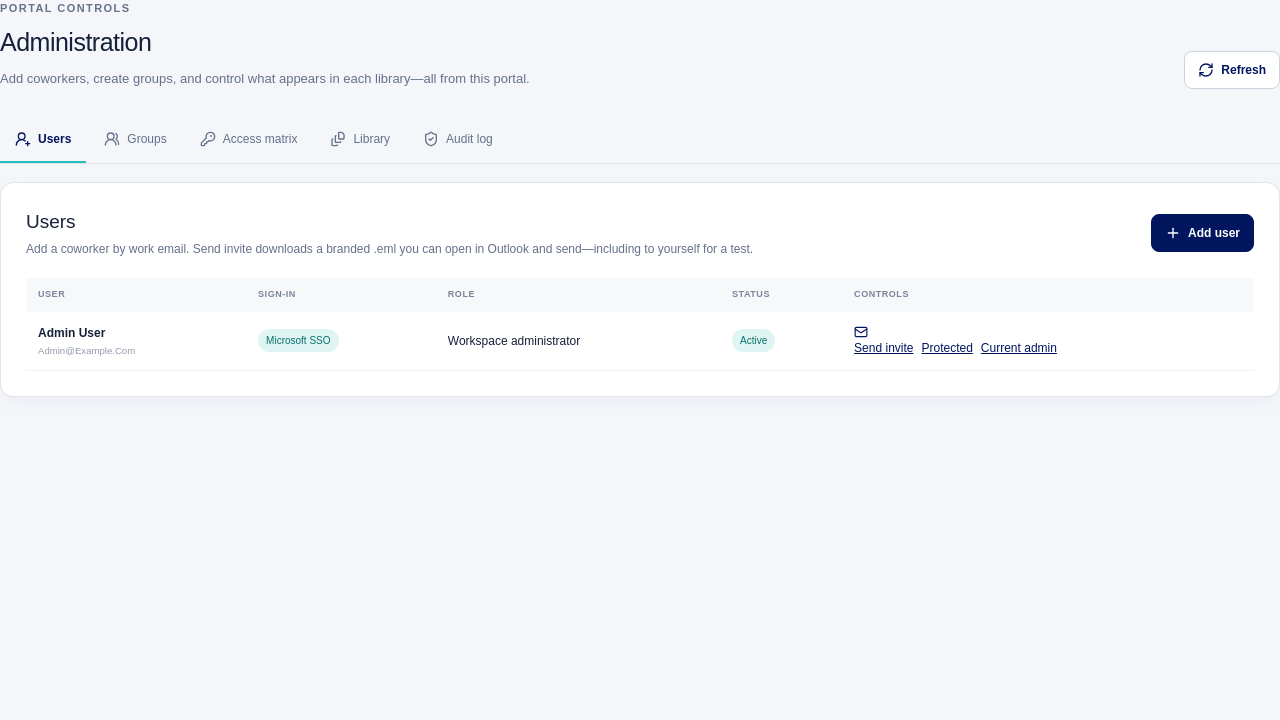
Test case: AdminPage access changes › opens the publish form on the library tab
The width and height of the screenshot is (1280, 720).
What coordinates should you click on to do the following:
click the tab "Library"
I would click on:
 (360, 140)
Its box is [315,116,405,162].
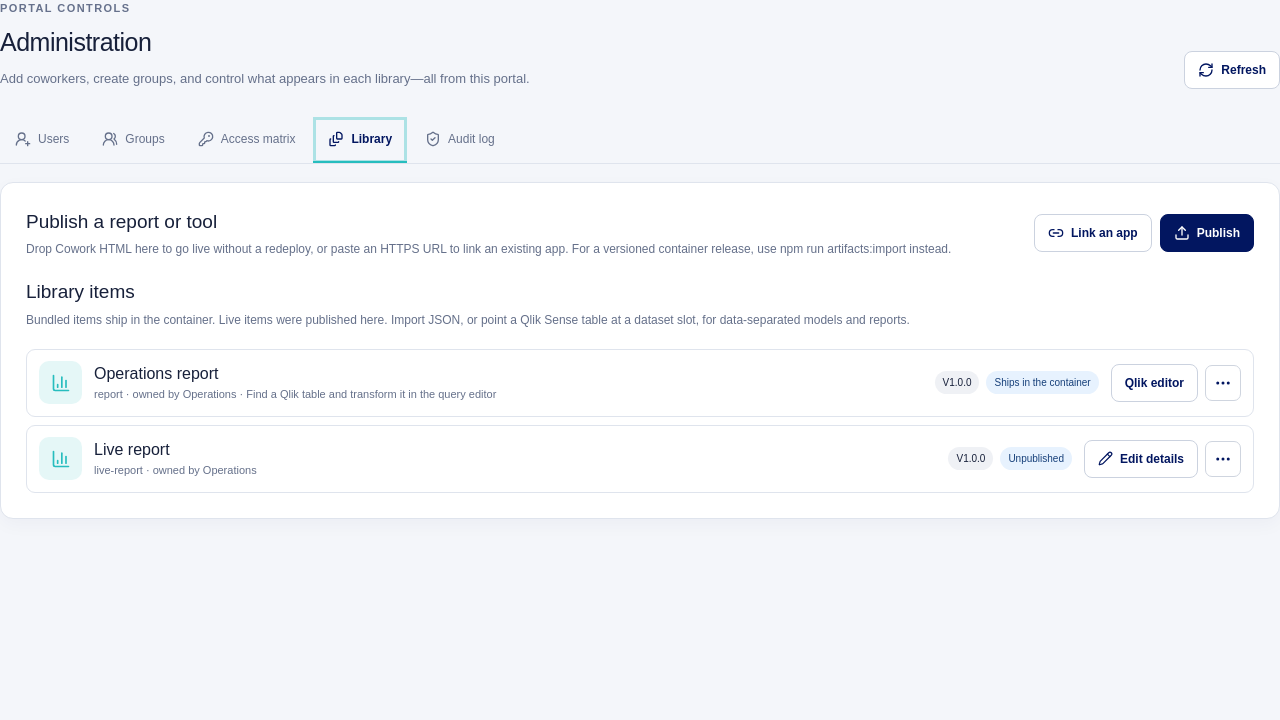
What coordinates should you click on to do the following:
click the button "Publish"
I would click on:
 (1207, 233)
Its box is [1160,214,1254,252].
(page scrolled)
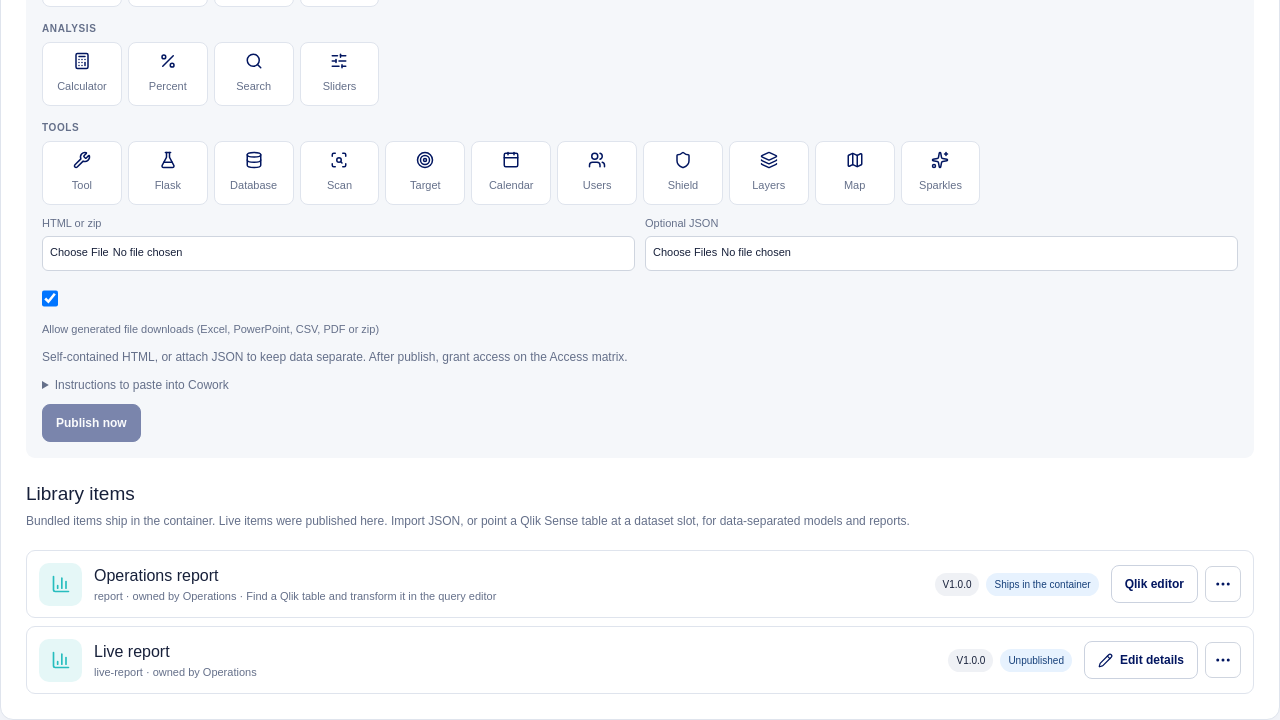
Now the text "Ships in the container" is shown, box [986,572,1099,596]
Now the button "Publish now" is shown, box [42,404,141,442]
Now the heading "Instructions to paste into Cowork" is shown, box [55,378,229,392]
